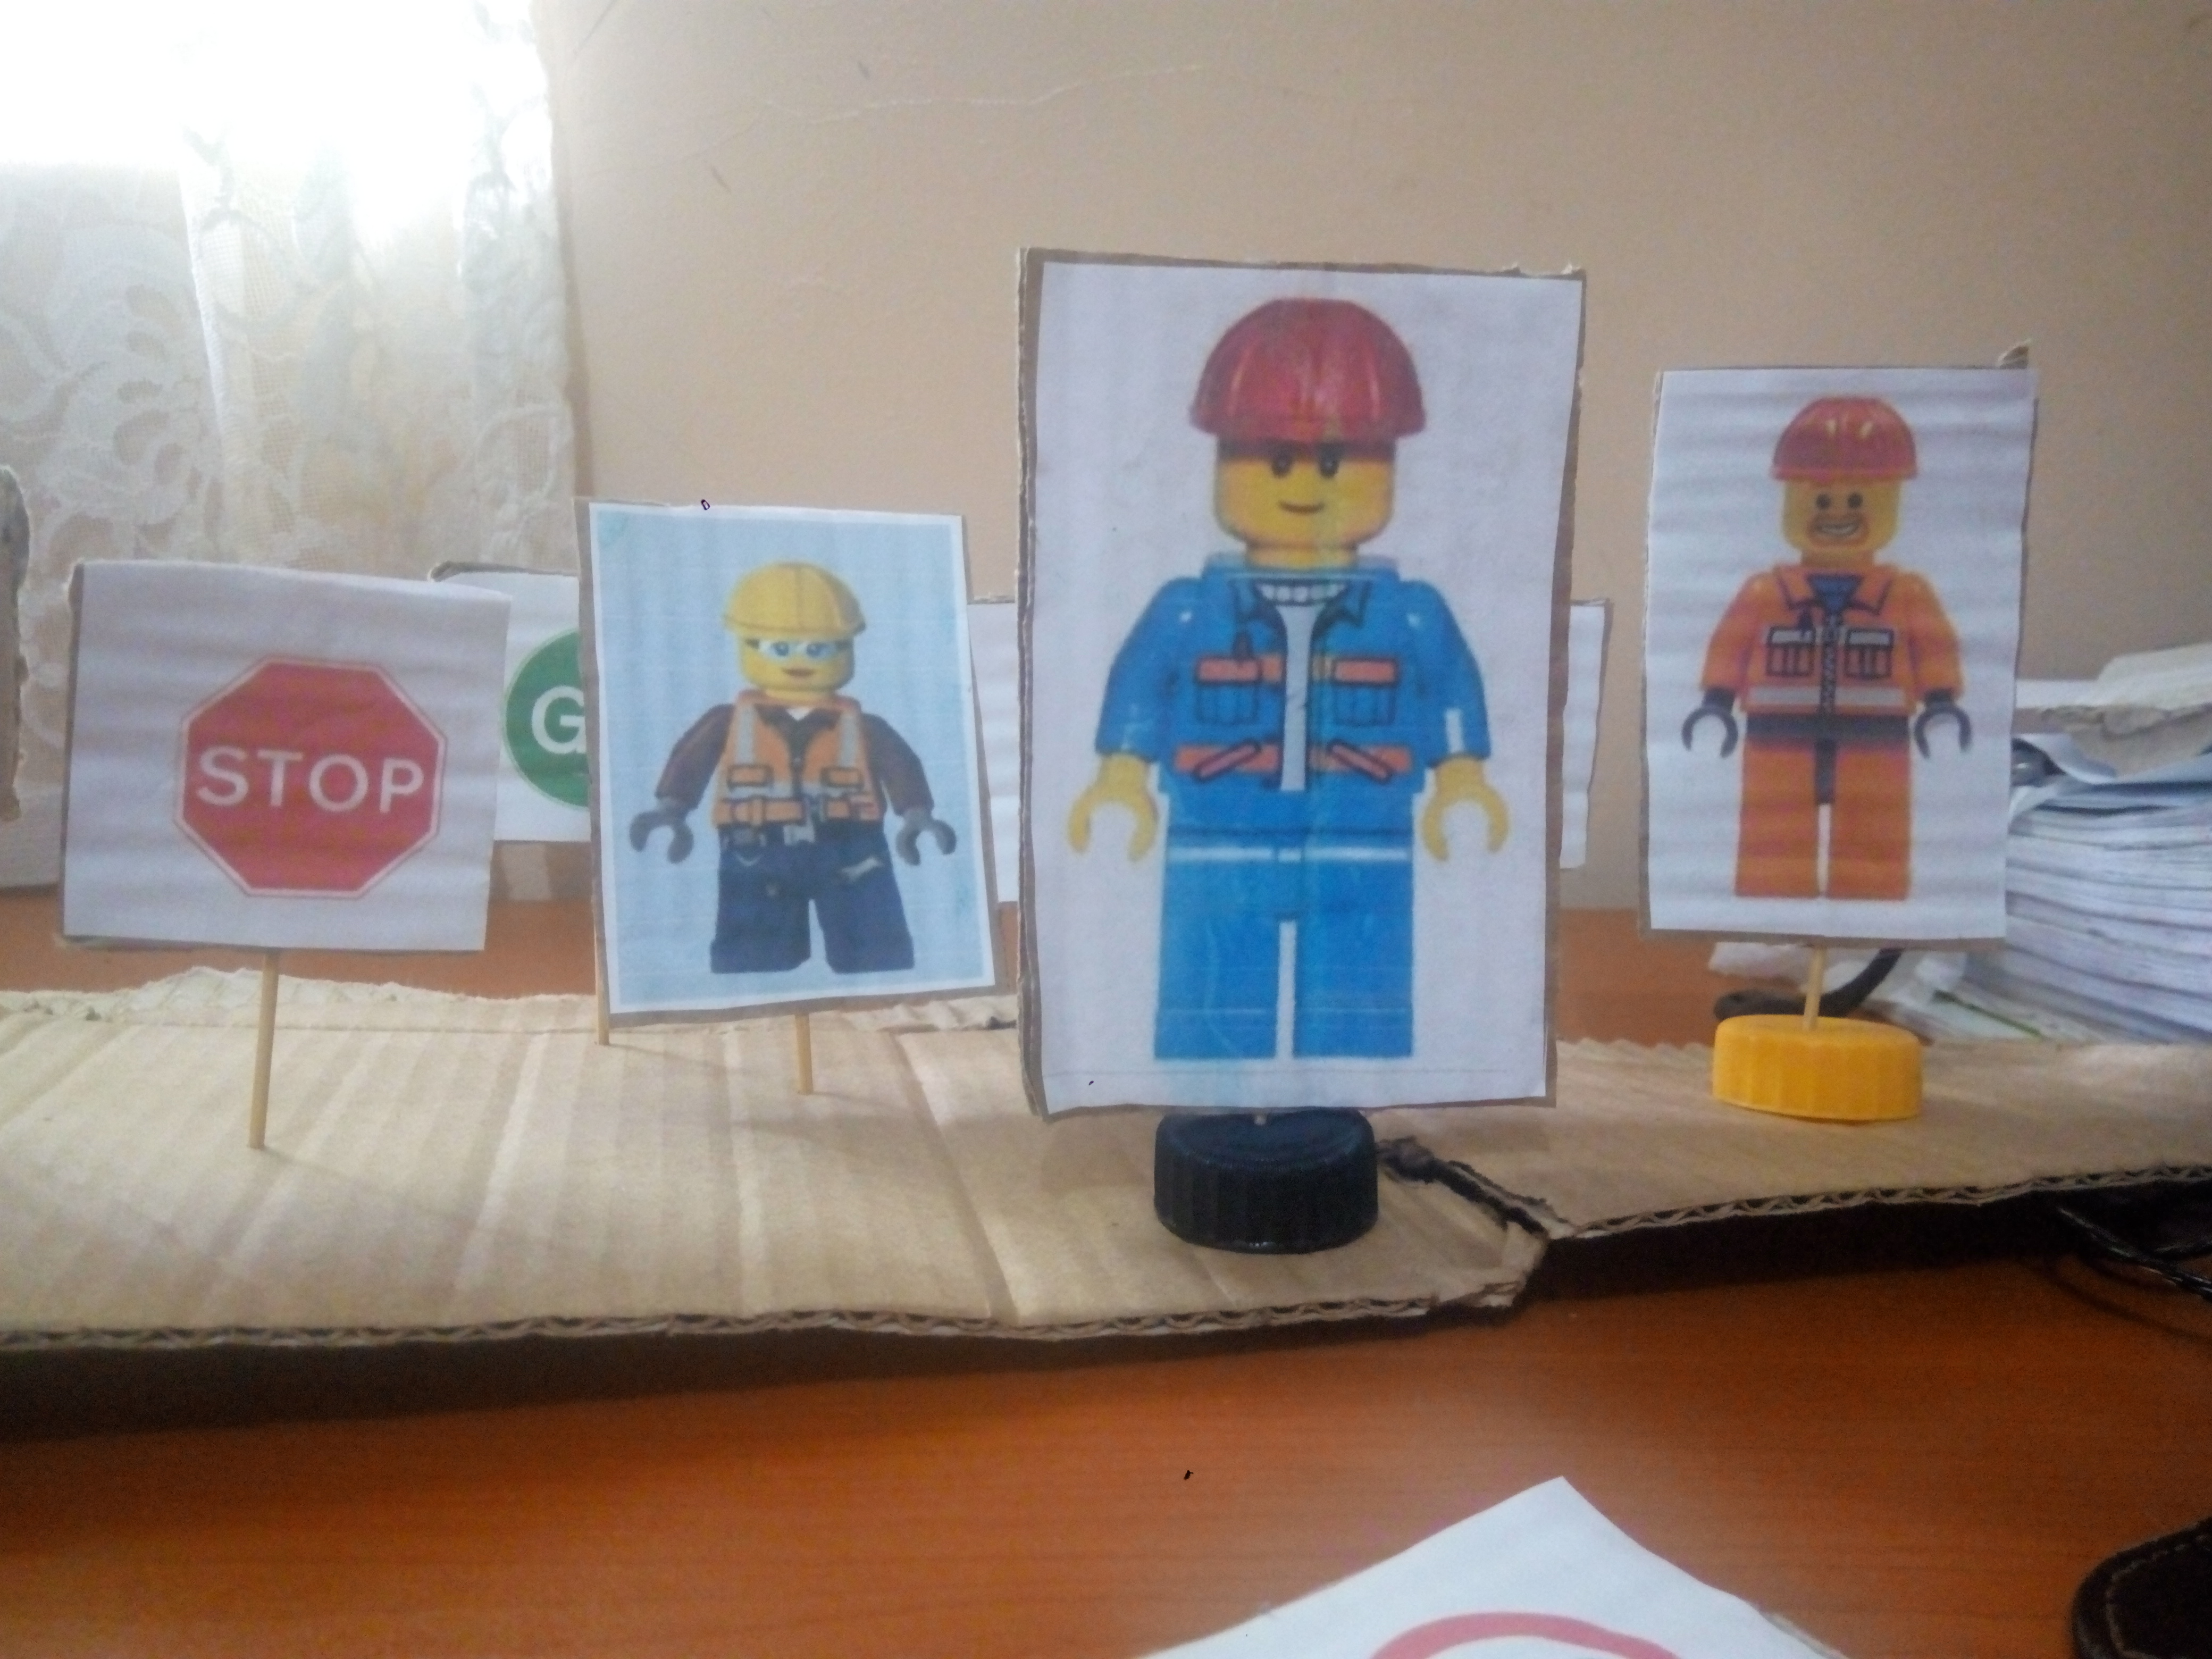pedestrian: (1065, 281, 1539, 1066), (1666, 371, 1985, 923), (626, 543, 975, 995)
stop: (161, 647, 456, 936)
